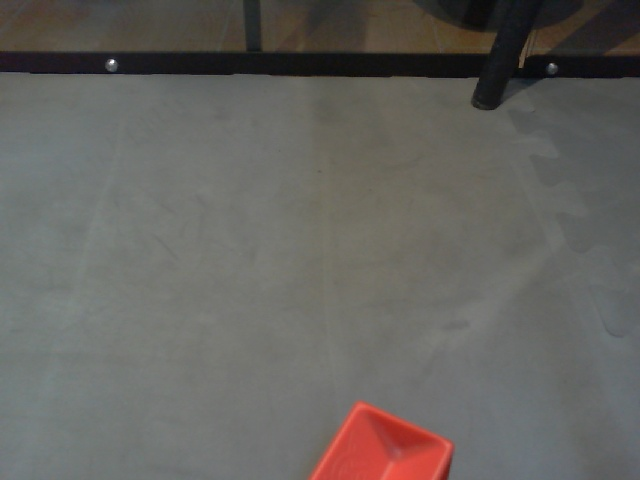RedSample: (301, 397, 456, 480)
